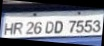character: (3, 22, 13, 36), (53, 20, 63, 34), (74, 19, 84, 33), (83, 19, 93, 33), (33, 21, 42, 35), (44, 20, 53, 34), (92, 19, 101, 33), (13, 22, 22, 35), (68, 19, 76, 33), (25, 21, 33, 34)
